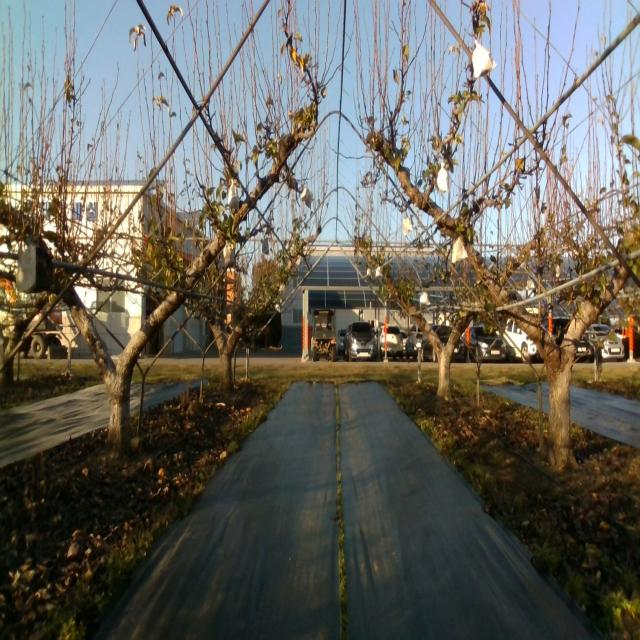pearbags: (472, 38, 498, 79), (451, 237, 468, 263), (228, 178, 240, 210), (437, 162, 448, 191), (403, 212, 413, 236)
